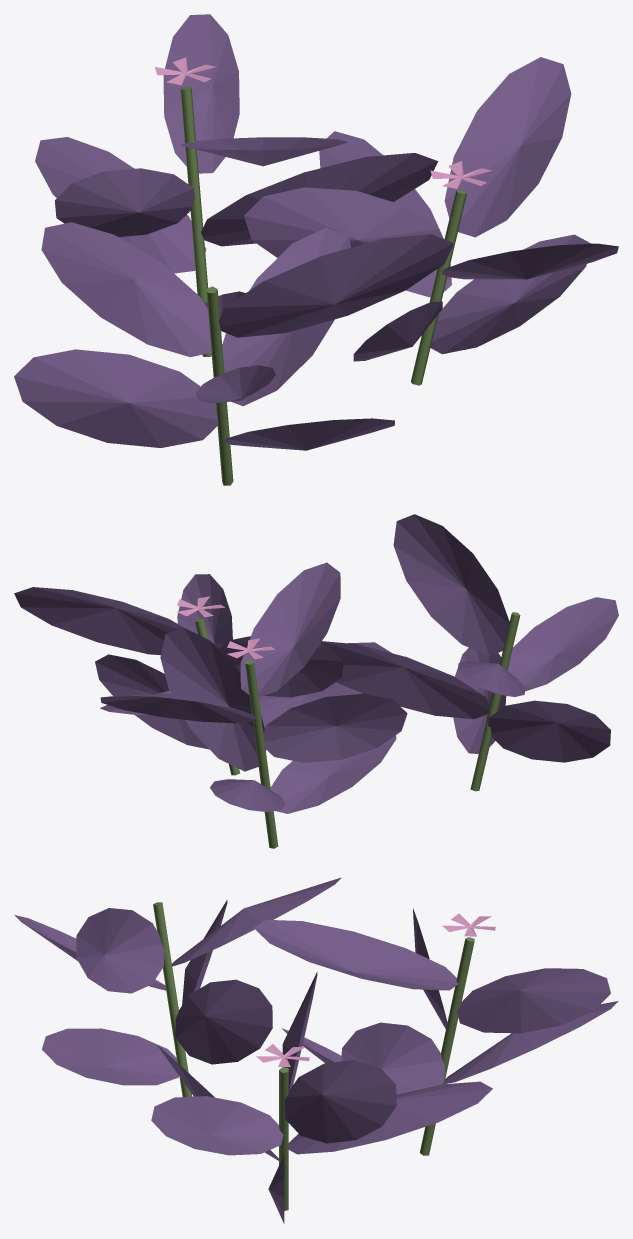
Rendered from tradescantia-zebrina.glb.
3 views of the same model, one above another, from view 1: azimuth 30°, elevation 25°; view 2: azimuth 150°, elevation 25°; view 3: azimuth 270°, elevation 25° (orthographic). The views are drawn at different scales.
Visible parts, largest first — view 1: Species leaves, Species stems, Species flowers / bracts; view 2: Species leaves, Species stems, Species flowers / bracts; view 3: Species leaves, Species stems, Species flowers / bracts.
Boxes of the visible parts, x1,y1,x2,y2 form: Species leaves: [14, 14, 618, 450]; Species stems: [180, 86, 466, 485]; Species flowers / bracts: [155, 57, 492, 188]; Species leaves: [14, 514, 618, 813]; Species stems: [195, 612, 520, 848]; Species flowers / bracts: [177, 596, 274, 659]; Species leaves: [14, 877, 618, 1223]; Species stems: [153, 902, 474, 1210]; Species flowers / bracts: [256, 913, 495, 1067].
Size of the model in its own units: 0.4989 by 0.203 by 0.4631.
